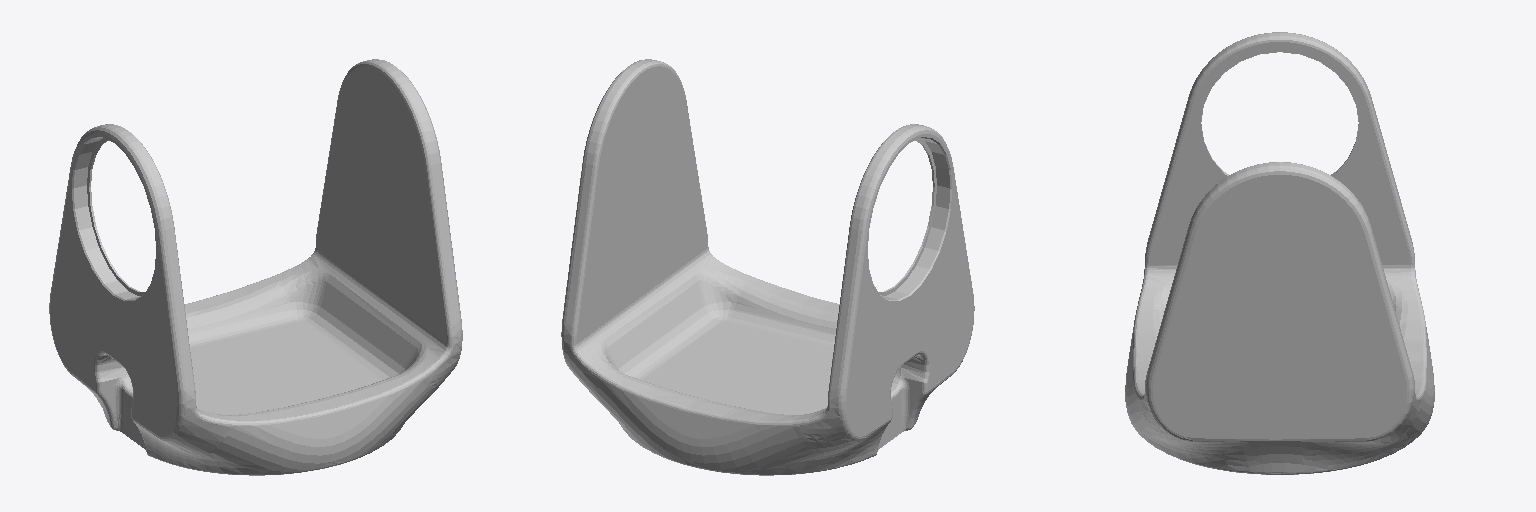
The picture shows the model from 3 angles: view 1: azimuth 30°, elevation 25°; view 2: azimuth 150°, elevation 25°; view 3: azimuth 270°, elevation 25°; orthographic projection.
Parts seen in each view (by area): view 1: AR2; view 2: AR2; view 3: AR2.
Part boxes in pixels (x1,y1,x2,y2): AR2: (49, 59, 462, 475); AR2: (561, 59, 974, 475); AR2: (1125, 32, 1434, 474).
Bounding box in the file's own units: 0.073 × 0.077 × 0.0689.